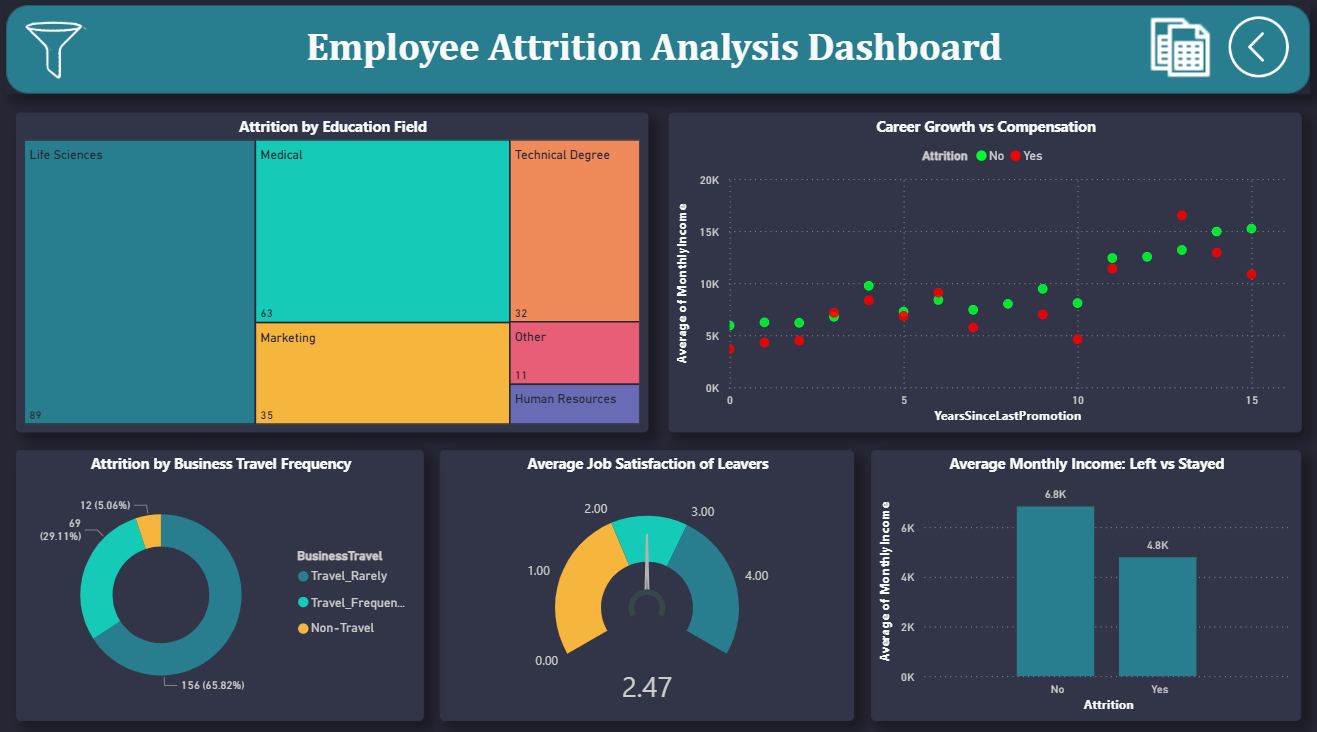

The dashboard page shown, as its layout file describes it:
{"tool":"powerbi","page":{"name":"Page 2","canvas":[1280,720],"ordinal":1},"visuals":[{"type":"shape","box":[10,10,1258.6,85.7],"z":0,"group":"g1"},{"type":"scatterChart","title":"Career Growth vs Compensation","fields":{"X":["Data.YearsSinceLastPromotion"],"Y":["Avg(Data.MonthlyIncome)"],"Series":["Data.Attrition"]},"box":[648.8,113.8,611.2,308.8],"z":0},{"type":"textbox","box":[295,23.3,690,61.7],"z":1000,"group":"g1"},{"type":"treemap","title":"Attrition by Education Field","fields":{"Group":["Data.EducationField"],"Values":["Data.Total Employees Left"]},"box":[18.8,113.8,610,308.8],"z":1000},{"type":"image","box":[1177.5,18.8,82.5,63.8],"z":2000,"group":"g1"},{"type":"clusteredColumnChart","title":"Average Monthly Income: Left vs Stayed","fields":{"Category":["Data.Attrition"],"Y":["Avg(Data.MonthlyIncome)"]},"box":[845,438.8,415,261.2],"z":2000},{"type":"image","box":[10,12.5,92.5,80],"z":3000,"group":"g1"},{"type":"Tachometer1474636471549","title":"Average Job Satisfaction of Leavers","fields":{"Y":["Data.Avg Job Satisfaction Leavers"]},"box":[428.8,438.8,400,261.2],"z":3000},{"type":"group","id":"g1","title":"Group 1","box":[10,10,1258.6,85.7],"z":4000},{"type":"donutChart","title":"Attrition by Business Travel Frequency","fields":{"Category":["Data.BusinessTravel"],"Y":["Data.Total Employees Left"]},"box":[18.8,438.8,393.8,261.2],"z":5000},{"type":"image","box":[1105.1,18.1,76,65.1],"z":8000}]}

Visuals, with their boxes in screenshot pixels (x1, y1, x2, y2), scaled from the page's 1280x720 canvas onto the 1317x732 screenshot:
shape: BBox(10, 10, 1305, 97)
"Career Growth vs Compensation" scatterChart: BBox(668, 116, 1296, 430)
textbox: BBox(304, 24, 1013, 86)
"Attrition by Education Field" treemap: BBox(19, 116, 647, 430)
image: BBox(1212, 19, 1296, 84)
"Average Monthly Income: Left vs Stayed" clusteredColumnChart: BBox(869, 446, 1296, 712)
image: BBox(10, 13, 105, 94)
"Average Job Satisfaction of Leavers" Tachometer1474636471549: BBox(441, 446, 853, 712)
"Group 1" group: BBox(10, 10, 1305, 97)
"Attrition by Business Travel Frequency" donutChart: BBox(19, 446, 425, 712)
image: BBox(1137, 18, 1215, 85)
